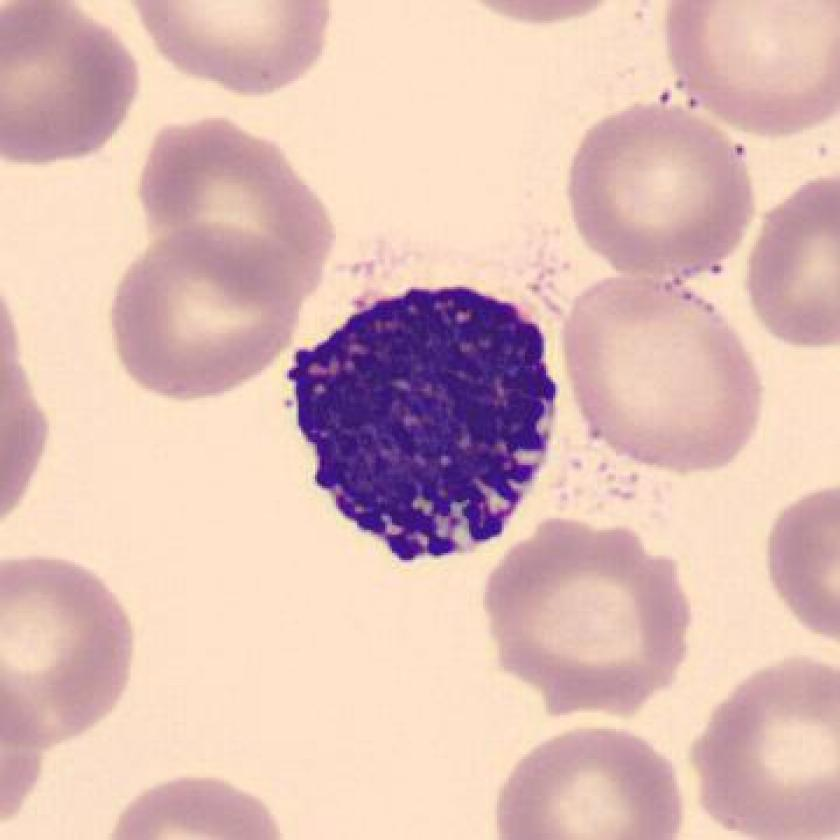basophil: (263, 262, 571, 575)
